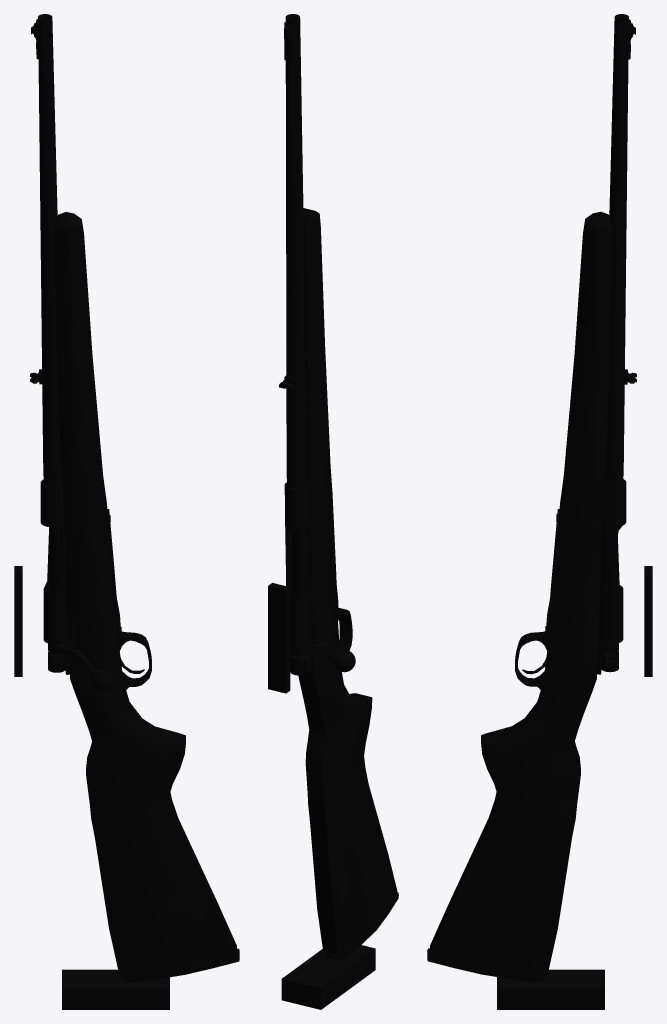
File: Win70__Mount_ScopeBase__RecoilPad_Rubber.fbx
3 renders of one model, left to right at view 1: azimuth 90°, elevation 25°; view 2: azimuth 150°, elevation 25°; view 3: azimuth 270°, elevation 25°, orthographic.
Parts seen in each view (by area): view 1: asset_Win70.001; view 2: asset_Win70.001; view 3: asset_Win70.001.
Boxes of the visible parts, left/top/right/bottom form: asset_Win70.001: left=14, top=14, right=239, bottom=1009; asset_Win70.001: left=268, top=14, right=398, bottom=1009; asset_Win70.001: left=427, top=14, right=652, bottom=1009.
Bounding box in the file's own units: 0.0382 × 0.693 × 0.1441.
